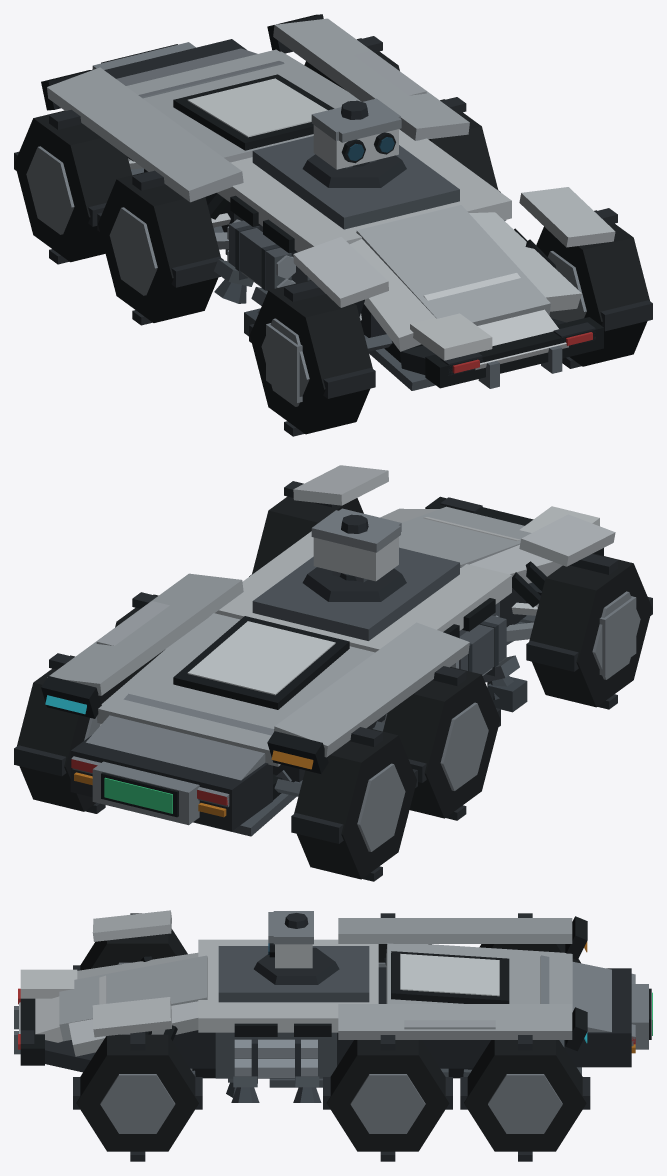
Rendered from r47x_recon_rover_d0_lod2.glb.
The picture shows the model from 3 angles, top to bottom: view 1: azimuth 30°, elevation 25°; view 2: azimuth 150°, elevation 25°; view 3: azimuth 270°, elevation 25°; orthographic projection. The views are drawn at different scales.
Parts seen in each view (by area): view 1: ROVER_STATIC_BODY; view 2: ROVER_STATIC_BODY; view 3: ROVER_STATIC_BODY.
Boxes of the visible parts, bbox=[...] form: ROVER_STATIC_BODY: bbox=[14, 14, 652, 436]; ROVER_STATIC_BODY: bbox=[14, 465, 652, 881]; ROVER_STATIC_BODY: bbox=[14, 910, 652, 1161].
Bounding box in the file's own units: 2.38 × 1.47 × 4.75.
